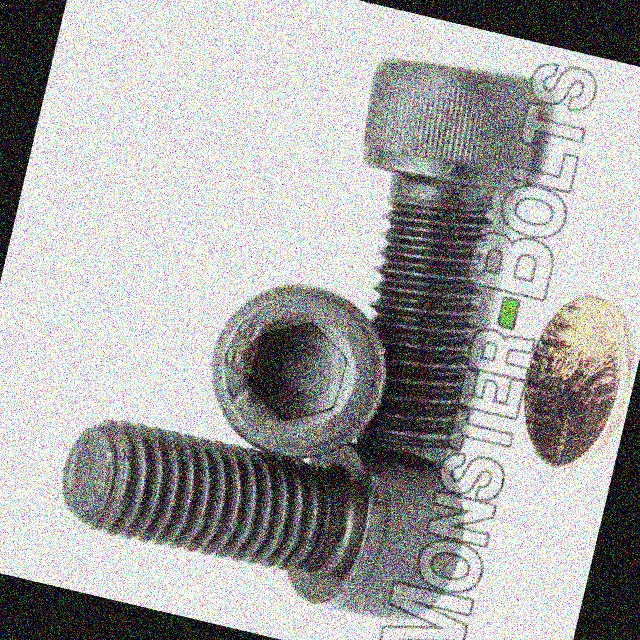allen: (236, 311, 356, 433)
